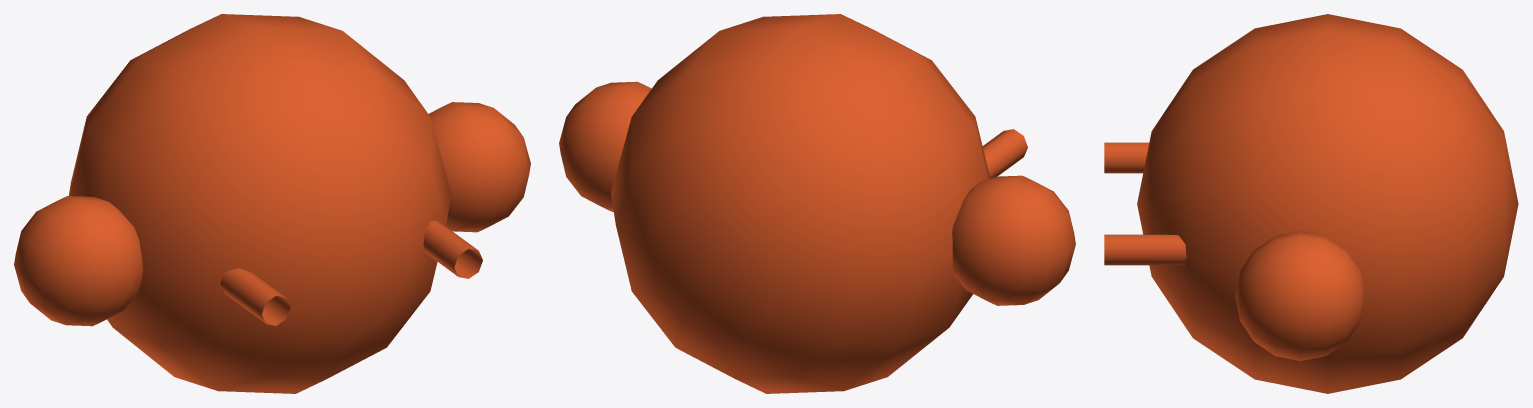
The picture shows the model from 3 angles, left to right: view 1: azimuth 30°, elevation 25°; view 2: azimuth 150°, elevation 25°; view 3: azimuth 270°, elevation 25°; orthographic projection.
Visible parts, largest first — view 1: Mantis_Shrimp; view 2: Mantis_Shrimp; view 3: Mantis_Shrimp.
Boxes of the visible parts, left/top/right/bottom form: Mantis_Shrimp: left=14, top=14, right=530, bottom=393; Mantis_Shrimp: left=559, top=14, right=1075, bottom=393; Mantis_Shrimp: left=1104, top=14, right=1518, bottom=393.
Bounding box in the file's own units: 1.14 × 0.77 × 0.836.
